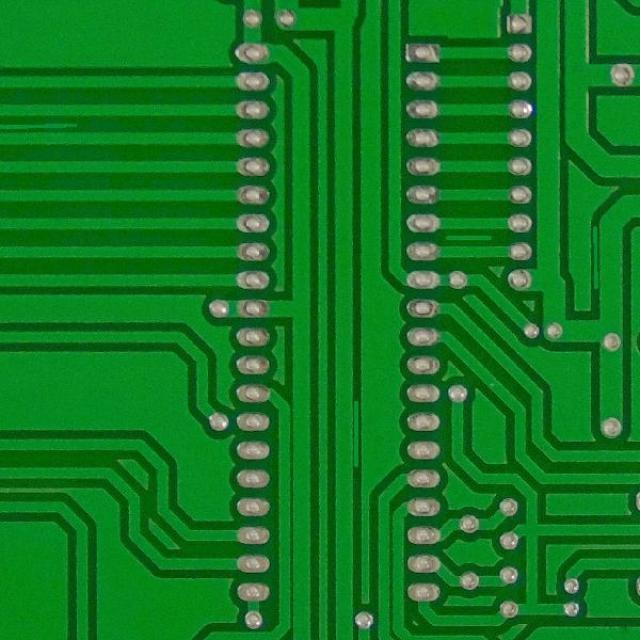Spurious_Cooper: (0, 120, 81, 132), (590, 224, 601, 293), (352, 397, 361, 472), (442, 232, 497, 244)
